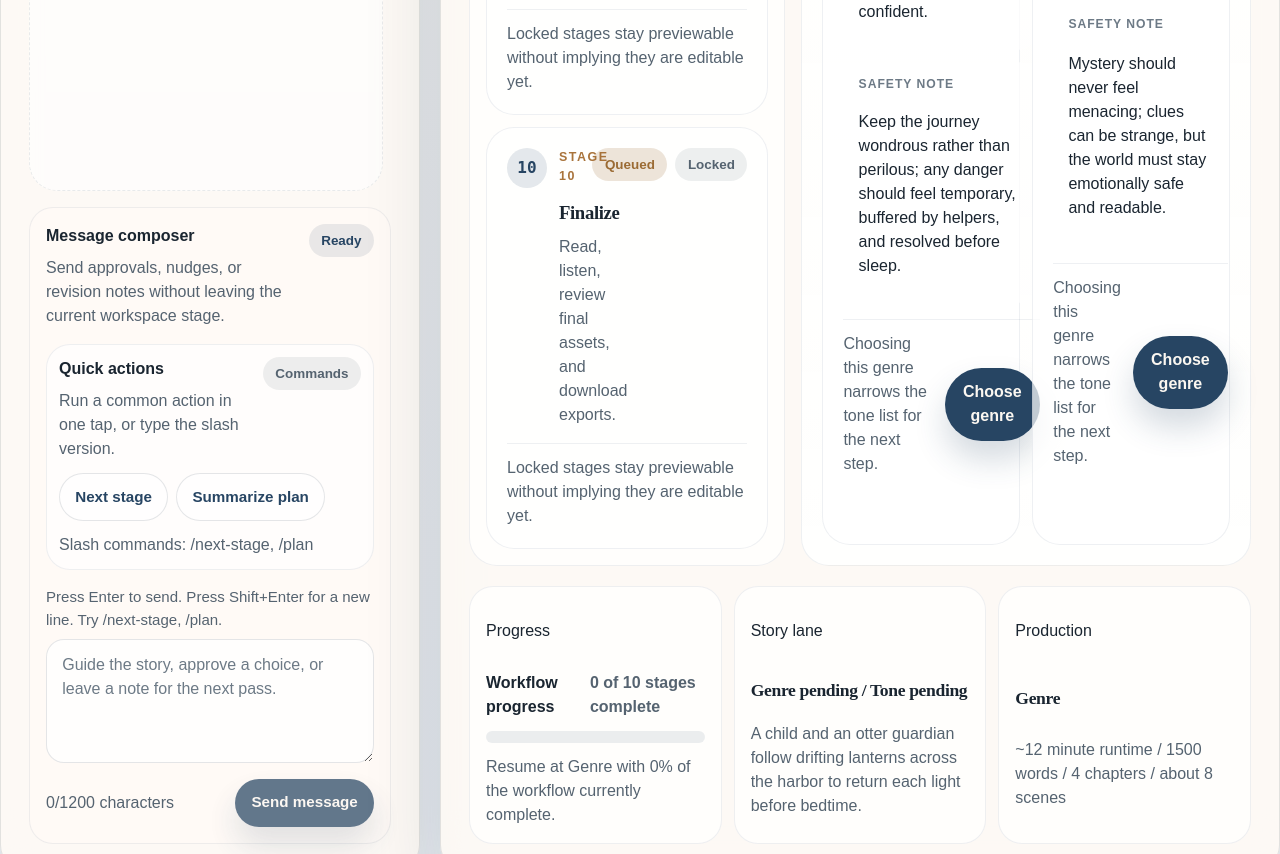
SessionWorkspacePage › renders genre cards from the catalog and persists a selected genre
(page scrolled)
Click the 2nd button "Choose genre" at (992, 404), box [945, 368, 1040, 441]
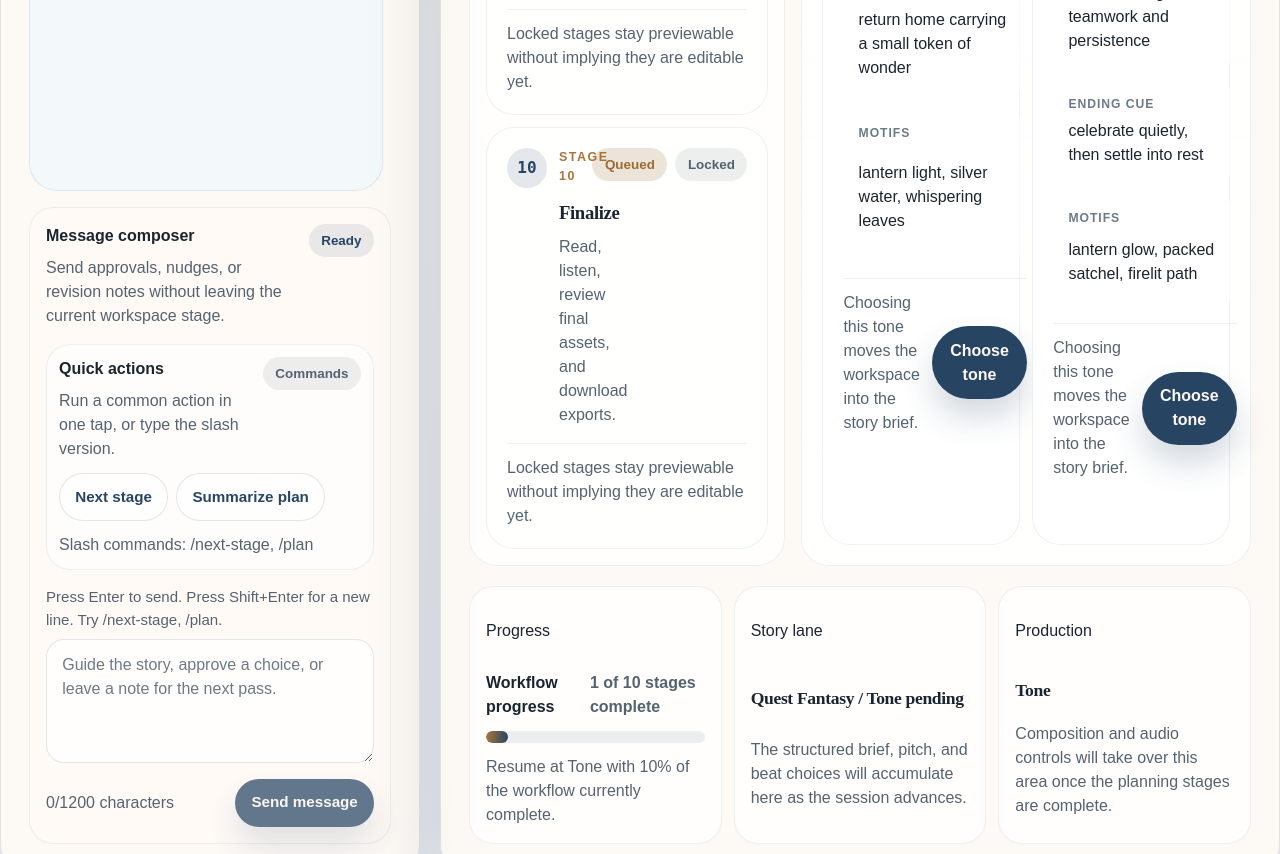
Check: the heading "Quest Fantasy / Tone pending" is shown, box [751, 688, 964, 708]
